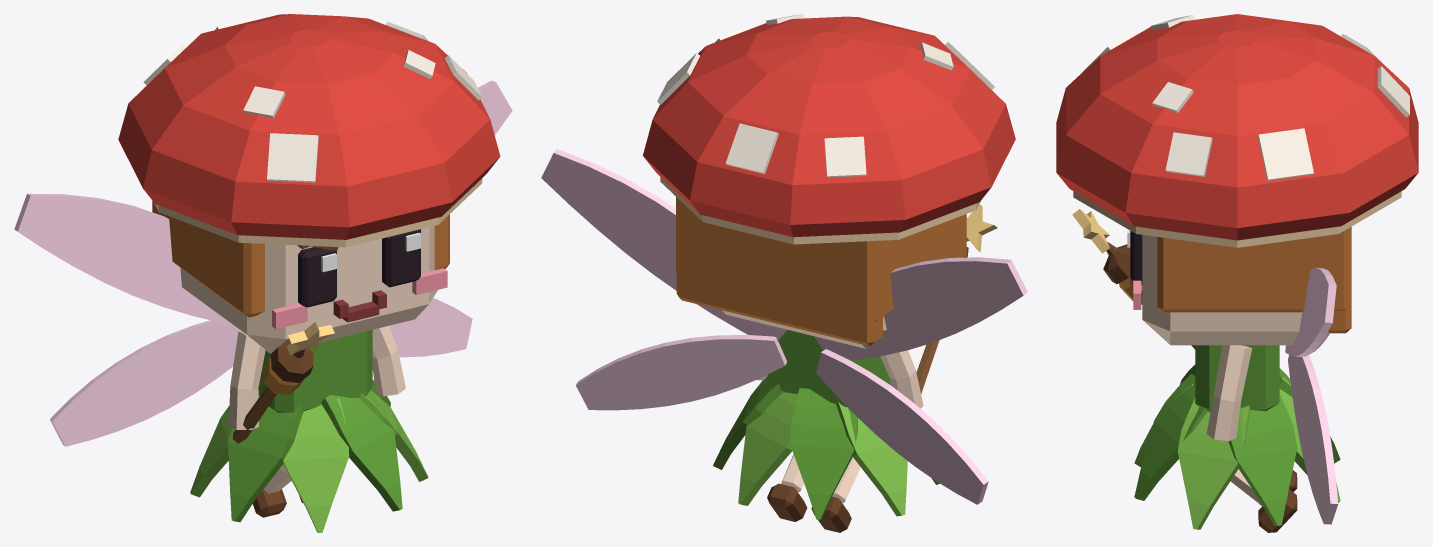
File: w2_secretenemy_fairy.fbx
The picture shows the model from 3 angles, left to right: view 1: azimuth 30°, elevation 25°; view 2: azimuth 150°, elevation 25°; view 3: azimuth 270°, elevation 25°; orthographic projection. The views are drawn at different scales.
Visible parts, largest first — view 1: Fairy.Cap, Fairy.RightWing, Fairy.Head, Fairy.DressDark, Fairy.Dress, Fairy.Hair, Fairy.Spots, Fairy.Torso, Fairy.LeftWing, Fairy.Eyes, Fairy.Gills, Fairy.RightArm (+8 smaller); view 2: Fairy.Cap, Fairy.Hair, Fairy.LeftWing, Fairy.RightWing, Fairy.Dress, Fairy.DressDark, Fairy.Spots, Fairy.Torso, Fairy.Gills, Fairy.RightArm, Fairy.LeftShoe, Fairy.RightShoe (+3 smaller); view 3: Fairy.Cap, Fairy.Hair, Fairy.DressDark, Fairy.LeftWing, Fairy.Spots, Fairy.Head, Fairy.Dress, Fairy.Torso, Fairy.LeftArm, Fairy.Gills, Fairy.AcornCap, Fairy.Star (+2 smaller).
Boxes of the visible parts, x1=… form: Fairy.Cap: x1=118, y1=14, x2=500, y2=239; Fairy.RightWing: x1=14, y1=193, x2=239, y2=446; Fairy.Head: x1=180, y1=226, x2=437, y2=353; Fairy.DressDark: x1=227, y1=380, x2=402, y2=522; Fairy.Dress: x1=190, y1=390, x2=428, y2=532; Fairy.Hair: x1=152, y1=201, x2=449, y2=317; Fairy.Spots: x1=143, y1=17, x2=482, y2=182; Fairy.Torso: x1=258, y1=330, x2=372, y2=412; Fairy.LeftWing: x1=389, y1=80, x2=512, y2=357; Fairy.Eyes: x1=298, y1=229, x2=420, y2=307; Fairy.Gills: x1=154, y1=178, x2=482, y2=247; Fairy.RightArm: x1=228, y1=331, x2=265, y2=429; Fairy.Cap: x1=643, y1=16, x2=1015, y2=237; Fairy.Hair: x1=676, y1=197, x2=966, y2=346; Fairy.LeftWing: x1=541, y1=149, x2=787, y2=410; Fairy.RightWing: x1=814, y1=257, x2=1027, y2=504; Fairy.Dress: x1=738, y1=377, x2=907, y2=516; Fairy.DressDark: x1=713, y1=376, x2=939, y2=519; Fairy.Spots: x1=657, y1=14, x2=994, y2=177; Fairy.Torso: x1=767, y1=330, x2=890, y2=407; Fairy.Gills: x1=660, y1=177, x2=980, y2=244; Fairy.RightArm: x1=880, y1=350, x2=923, y2=408; Fairy.LeftShoe: x1=767, y1=483, x2=807, y2=521; Fairy.RightShoe: x1=811, y1=496, x2=851, y2=532; Fairy.Cap: x1=1056, y1=14, x2=1418, y2=240; Fairy.Hair: x1=1157, y1=227, x2=1351, y2=333; Fairy.DressDark: x1=1134, y1=364, x2=1340, y2=526; Fairy.LeftWing: x1=1285, y1=267, x2=1338, y2=524; Fairy.Spots: x1=1083, y1=15, x2=1409, y2=180; Fairy.Head: x1=1142, y1=235, x2=1302, y2=345; Fairy.Dress: x1=1134, y1=368, x2=1340, y2=529; Fairy.Torso: x1=1195, y1=345, x2=1279, y2=412; Fairy.LeftArm: x1=1206, y1=345, x2=1252, y2=441; Fairy.Gills: x1=1073, y1=191, x2=1401, y2=247; Fairy.AcornCap: x1=1103, y1=242, x2=1130, y2=284; Fairy.Star: x1=1072, y1=209, x2=1109, y2=253.
Bounding box in the file's own units: 2.83 × 2.64 × 1.81.
